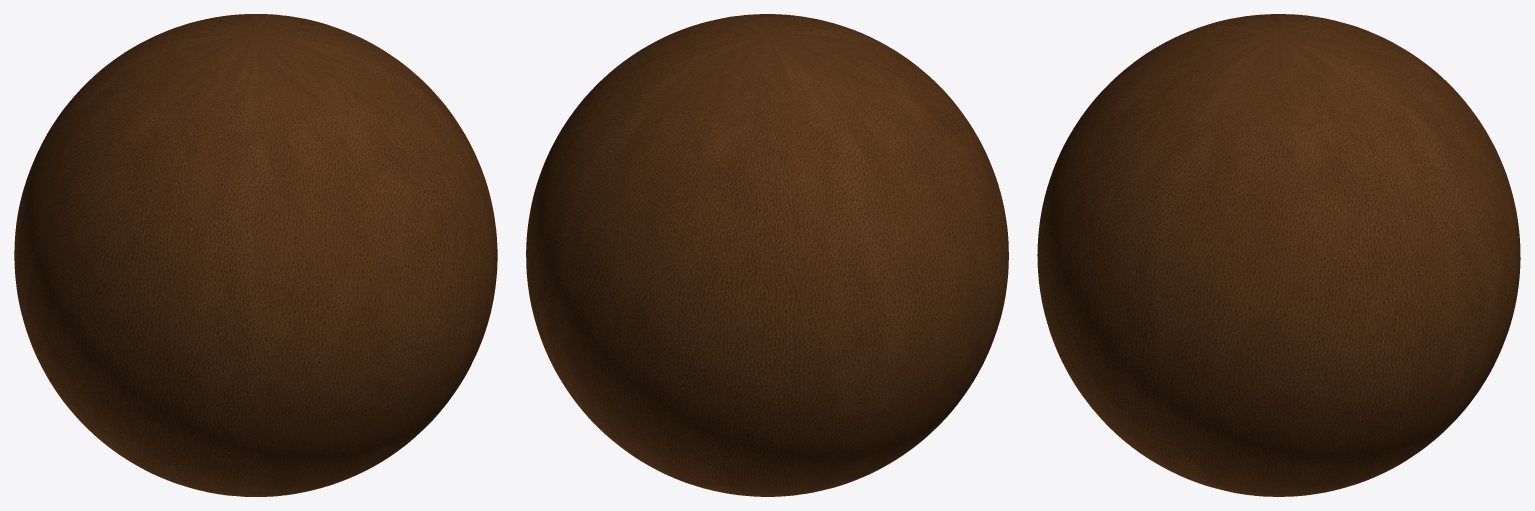
Rendered from brown_leather_1k.gltf.
3 views of the same model, side by side, from view 1: azimuth 30°, elevation 25°; view 2: azimuth 150°, elevation 25°; view 3: azimuth 270°, elevation 25° (orthographic).
Parts seen in each view (by area): view 1: sphere_gltf; view 2: sphere_gltf; view 3: sphere_gltf.
Boxes of the visible parts, x1,y1,x2,y2 form: sphere_gltf: [14, 14, 497, 496]; sphere_gltf: [526, 14, 1008, 496]; sphere_gltf: [1037, 14, 1520, 496].
Bounding box in the file's own units: 0.4 × 0.4 × 0.4.
1 material, 1 textured.
